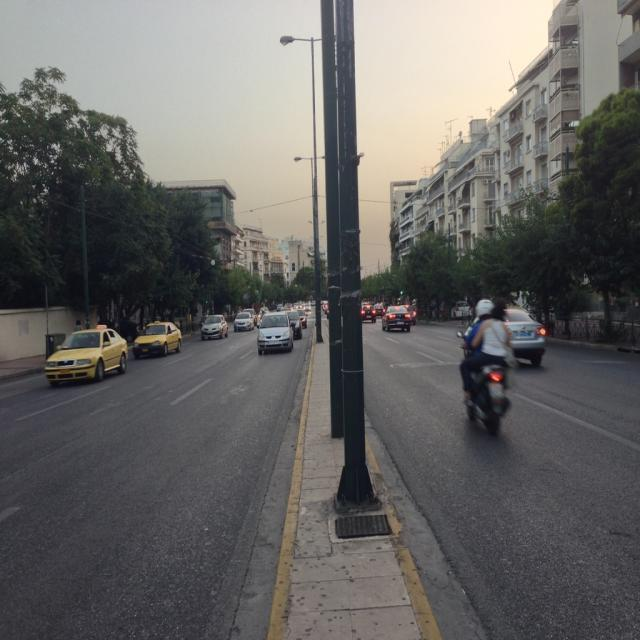car: (42, 320, 128, 382), (132, 319, 180, 356), (256, 310, 294, 354), (379, 303, 410, 334), (200, 313, 227, 339), (233, 308, 252, 332)
